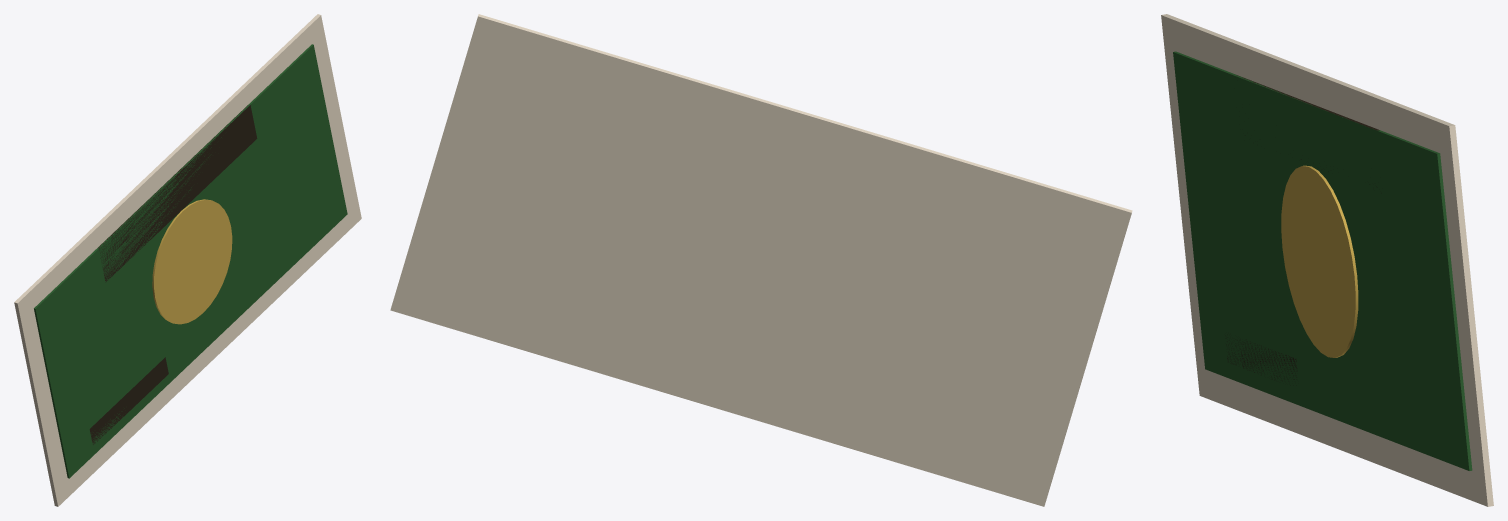
The model's file is banknote.glb.
3 views of the same model, side by side, from view 1: azimuth 30°, elevation 25°; view 2: azimuth 150°, elevation 25°; view 3: azimuth 270°, elevation 25° (orthographic). The views are drawn at different scales.
Size of the model in its own units: 1.22 by 0.8901 by 0.5122.
